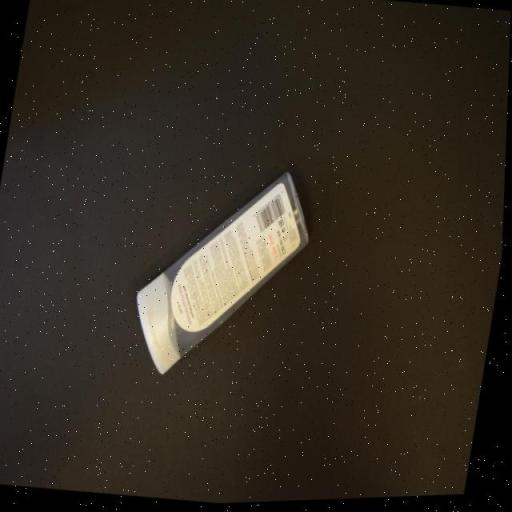plastic: (123, 154, 324, 396)
